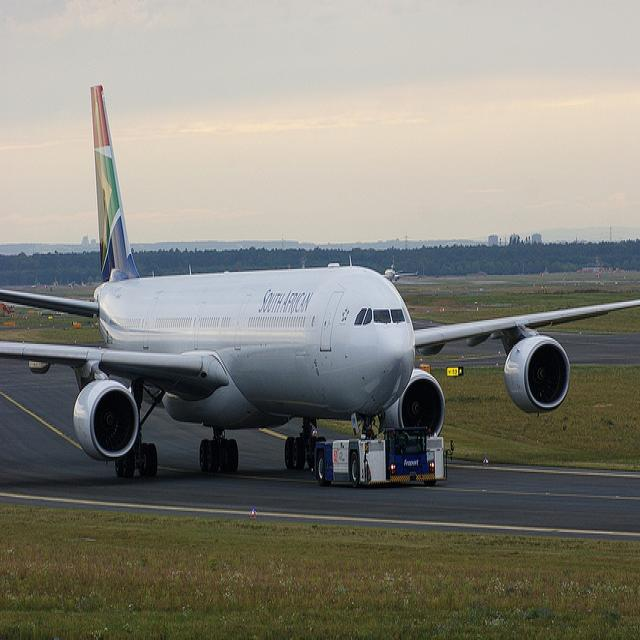Vehicle: (313, 424, 448, 488)
